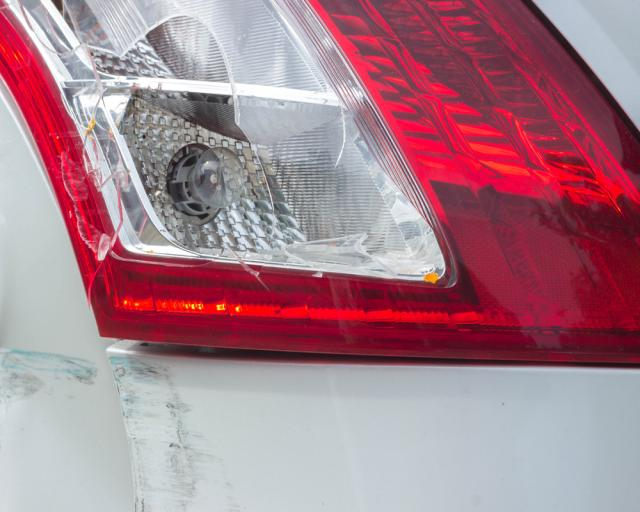scratch: (110, 356, 248, 512), (0, 345, 98, 403)
